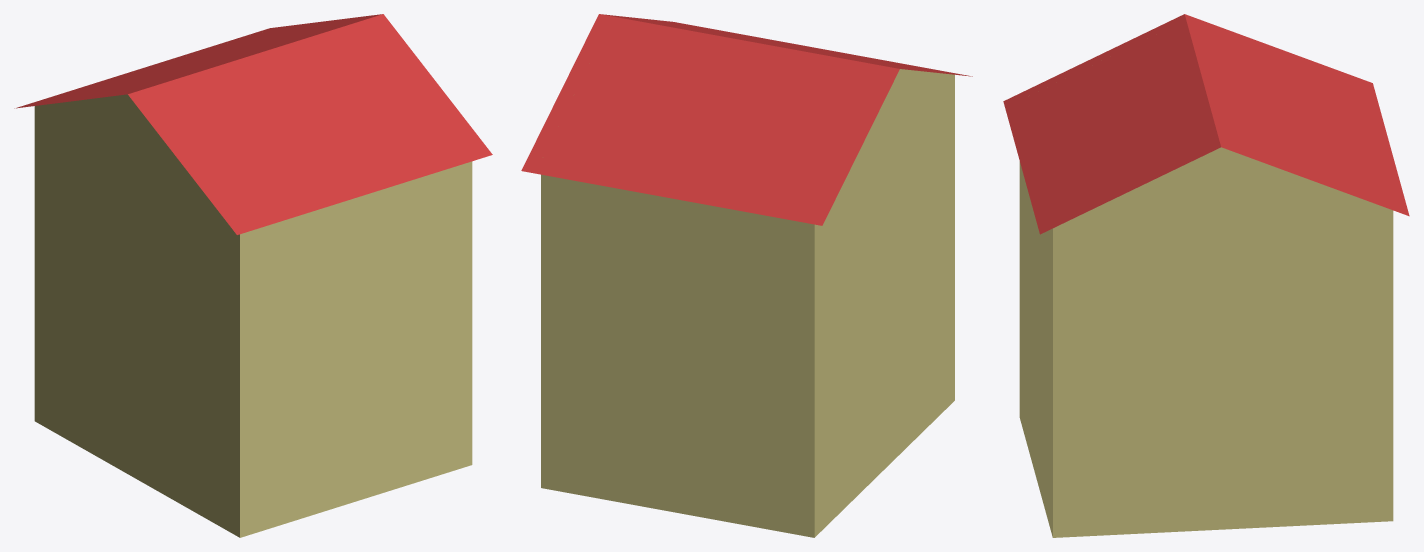
3 views of the same model, side by side, from view 1: azimuth 30°, elevation 25°; view 2: azimuth 150°, elevation 25°; view 3: azimuth 270°, elevation 25° (orthographic). The views are drawn at different scales.
Size of the model in its own units: 6.14 by 6.96 by 7.35.
